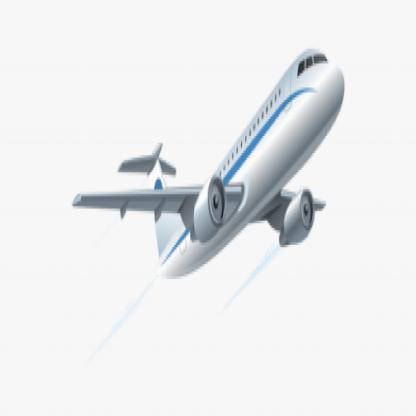CIV_Plane: (69, 37, 346, 281)
